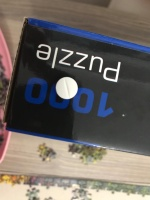Arveles: (54, 75, 79, 101)
